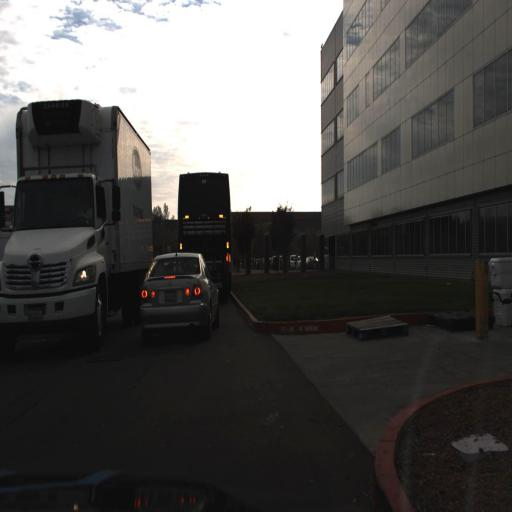car: (138, 248, 218, 334), (286, 245, 304, 268)
truck: (0, 94, 156, 345), (176, 168, 229, 293)
